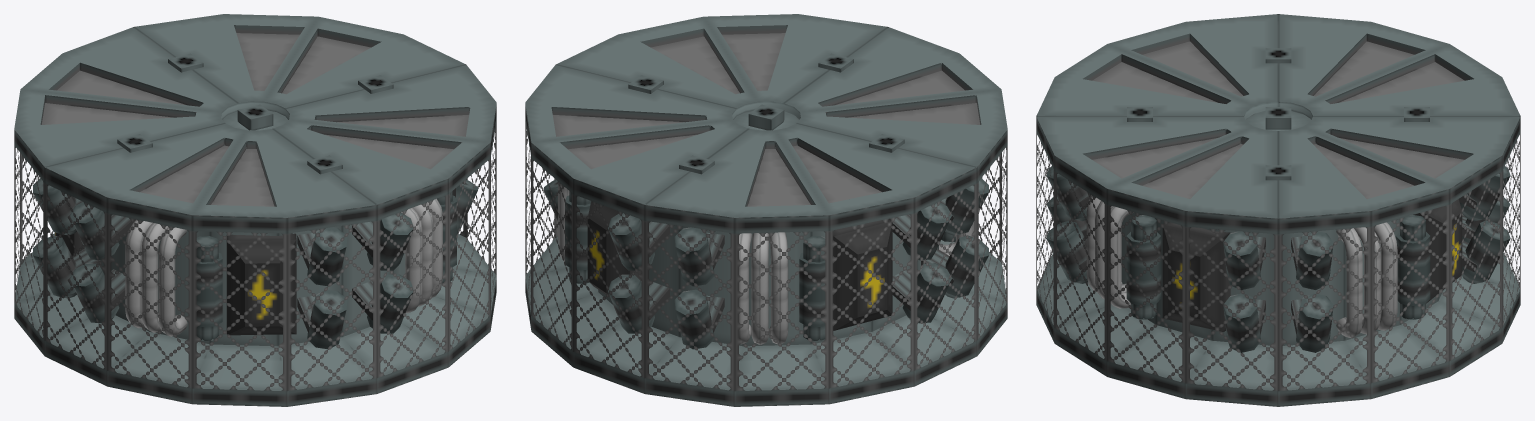
Rendered from watz.obj.
3 views of the same model, side by side, from view 1: azimuth 30°, elevation 25°; view 2: azimuth 150°, elevation 25°; view 3: azimuth 270°, elevation 25° (orthographic).
Visible parts, largest first — view 1: Circle; view 2: Circle; view 3: Circle.
Part boxes in pixels (x1=…): Circle: x1=14, y1=14, x2=496, y2=406; Circle: x1=525, y1=14, x2=1007, y2=406; Circle: x1=1036, y1=14, x2=1520, y2=406.
Bounding box in the file's own units: 7 × 3.12 × 7.
